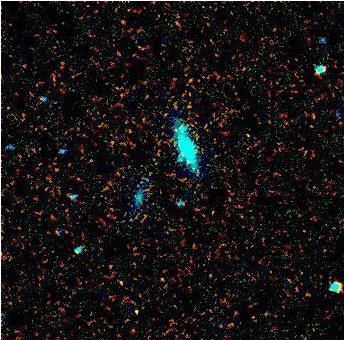star: (175, 147, 205, 177)
